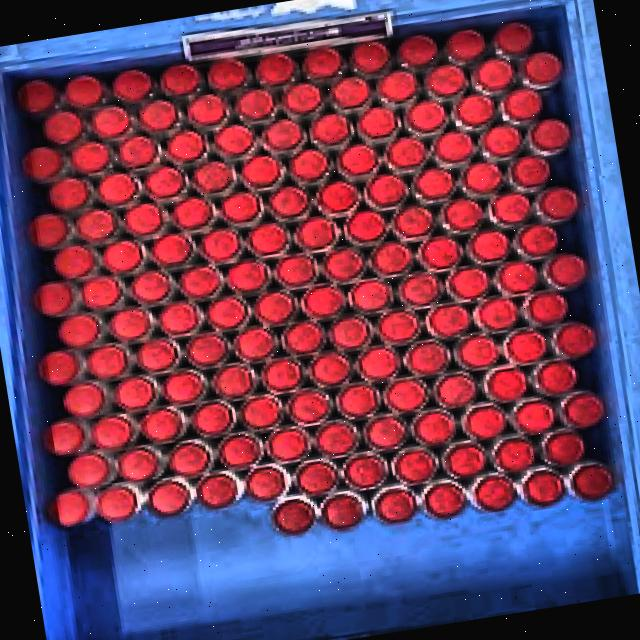vial: (286, 388, 332, 426), (559, 391, 605, 429), (404, 339, 451, 376), (433, 371, 478, 409), (410, 409, 455, 447), (454, 334, 500, 371), (541, 253, 588, 289), (473, 297, 520, 333), (112, 70, 155, 109), (356, 345, 401, 382), (265, 426, 310, 463), (363, 415, 408, 452), (521, 51, 563, 90), (501, 87, 543, 126), (512, 398, 555, 436), (343, 452, 387, 489), (48, 177, 93, 213), (212, 363, 257, 399), (384, 377, 429, 413), (541, 430, 586, 466), (377, 69, 419, 107), (406, 99, 448, 137), (219, 433, 262, 470), (186, 332, 230, 368), (391, 448, 435, 484), (226, 259, 271, 294), (396, 34, 438, 71), (296, 459, 338, 496), (53, 244, 96, 280), (492, 21, 535, 57), (234, 326, 277, 362), (336, 383, 379, 419), (551, 325, 594, 361), (168, 441, 211, 477), (464, 404, 507, 440), (130, 270, 174, 305), (302, 285, 346, 320), (418, 236, 462, 271), (535, 361, 579, 396), (253, 291, 298, 325), (426, 304, 471, 338), (49, 489, 89, 527), (322, 494, 364, 530), (444, 442, 486, 478), (494, 437, 536, 473), (16, 79, 59, 114), (213, 124, 256, 159), (102, 239, 145, 274), (206, 296, 249, 331), (261, 358, 304, 393), (399, 272, 442, 307), (207, 59, 251, 93), (344, 210, 388, 244), (108, 307, 152, 341), (136, 338, 180, 372), (446, 266, 490, 300), (45, 419, 85, 456), (29, 213, 70, 249), (445, 29, 486, 65), (473, 58, 514, 94), (197, 472, 238, 508), (572, 463, 613, 499), (77, 208, 119, 243), (256, 53, 298, 88), (297, 216, 339, 251), (365, 174, 407, 209), (81, 275, 123, 310), (115, 376, 157, 411), (163, 370, 205, 405), (158, 301, 200, 336), (309, 352, 351, 387), (378, 310, 420, 345), (527, 291, 569, 326), (67, 452, 109, 487), (315, 421, 357, 456), (273, 499, 315, 534), (356, 107, 399, 141), (424, 65, 467, 99), (58, 314, 101, 348), (349, 279, 392, 313), (242, 154, 282, 190), (64, 74, 105, 109), (70, 140, 111, 175), (235, 88, 276, 123), (310, 113, 351, 148), (530, 118, 571, 153), (39, 350, 80, 385), (193, 401, 234, 436), (118, 447, 159, 482), (149, 480, 190, 515), (97, 173, 139, 207), (152, 233, 194, 267), (247, 222, 289, 256), (282, 82, 324, 116), (302, 47, 344, 81), (349, 41, 391, 75), (385, 137, 427, 171), (275, 254, 317, 288), (240, 395, 282, 429), (496, 261, 538, 295), (329, 316, 371, 350), (486, 367, 528, 401), (475, 475, 514, 511), (23, 147, 63, 182), (201, 228, 241, 263), (538, 186, 578, 221), (35, 281, 75, 316), (284, 321, 324, 356), (246, 466, 286, 501), (43, 111, 84, 145), (173, 196, 214, 230), (193, 160, 234, 194), (221, 191, 262, 225), (414, 167, 455, 201), (455, 94, 496, 128), (92, 415, 133, 449), (142, 408, 183, 442), (97, 487, 138, 521), (424, 483, 465, 517), (523, 471, 564, 505), (159, 63, 201, 96), (144, 166, 186, 199), (263, 119, 305, 152), (462, 162, 504, 195), (179, 266, 221, 299), (371, 242, 413, 275), (118, 135, 158, 169), (167, 129, 207, 163), (331, 76, 371, 110), (318, 180, 358, 214), (443, 198, 483, 232), (64, 383, 104, 417), (324, 248, 364, 282), (376, 489, 416, 523), (90, 105, 131, 138), (124, 203, 165, 236), (393, 205, 434, 238), (505, 330, 546, 363), (291, 148, 329, 183), (139, 99, 179, 132), (338, 143, 378, 176), (491, 192, 531, 225), (89, 345, 129, 378), (469, 229, 509, 262), (510, 156, 551, 188), (270, 186, 309, 219), (482, 124, 521, 157), (187, 94, 227, 126), (519, 224, 557, 257), (434, 131, 473, 163)
